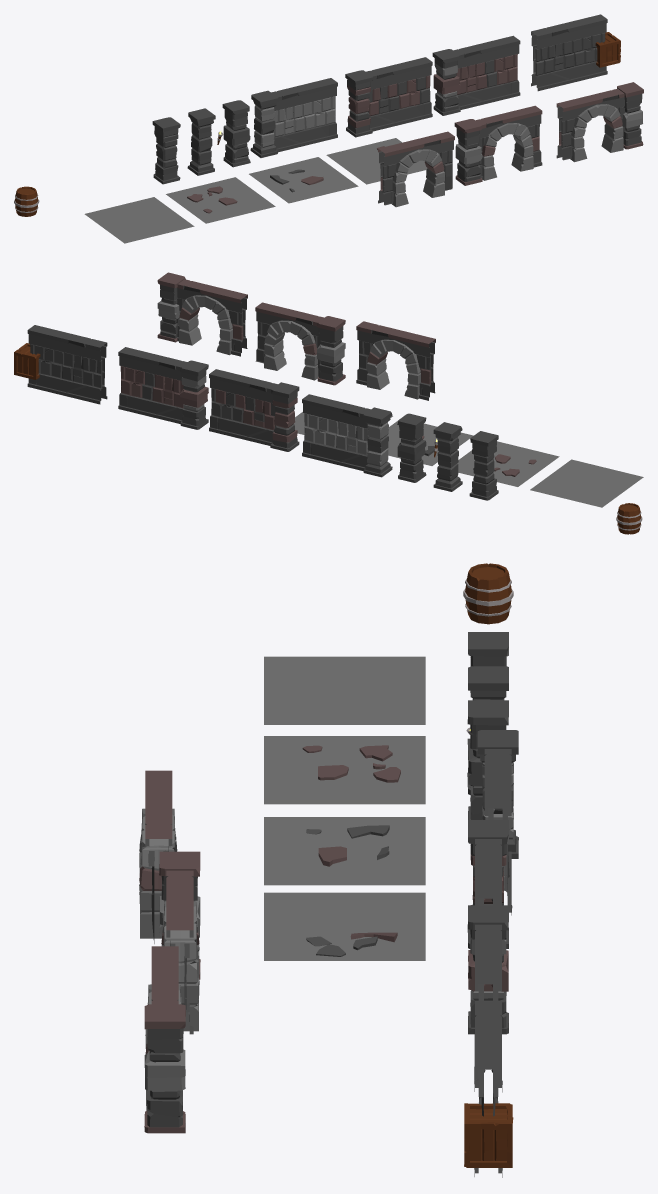
The model's file is Samples.fbx.
3 renders of one model, top to bottom at view 1: azimuth 30°, elevation 25°; view 2: azimuth 150°, elevation 25°; view 3: azimuth 270°, elevation 25°, orthographic. The views are drawn at different scales.
Parts seen in each view (by area): view 1: Wall03, Wall02, Wall01, Door.005, Door.006, Wall, Door.007, Plane.028, Plane.031, Plane.029, Plane.032, Pillar3 (+4 smaller); view 2: Wall03, Wall02, Wall01, Door.005, Door.006, Wall, Door.007, Plane.028, Plane.029, Pillar3, Pillar2, Pillar1 (+3 smaller); view 3: Plane.028, Plane.029, Plane.031, Plane.032, Door.006, Door.005, Door.007, Wall03, Wall01, Wall02, Crate.015, Barrel (+4 smaller).
Boxes of the visible parts, <box> form: Wall03: <box>432,35,520,115</box>; Wall02: <box>345,57,432,137</box>; Wall01: <box>250,78,337,157</box>; Door.005: <box>454,105,542,185</box>; Door.006: <box>556,82,643,162</box>; Wall: <box>531,14,607,91</box>; Door.007: <box>378,131,454,207</box>; Plane.028: <box>84,197,194,243</box>; Plane.031: <box>249,157,358,203</box>; Plane.029: <box>166,177,275,223</box>; Plane.032: <box>326,138,427,184</box>; Pillar3: <box>222,100,250,167</box>; Wall03: <box>118,347,208,429</box>; Wall02: <box>209,369,299,451</box>; Wall01: <box>302,394,392,477</box>; Door.005: <box>255,302,345,385</box>; Door.006: <box>157,272,247,356</box>; Wall: <box>27,325,107,404</box>; Door.007: <box>356,321,435,400</box>; Plane.028: <box>530,459,643,507</box>; Plane.029: <box>457,441,559,486</box>; Pillar3: <box>397,413,426,482</box>; Pillar2: <box>469,431,498,500</box>; Pillar1: <box>433,422,462,491</box>; Plane.028: <box>264,656,425,724</box>; Plane.029: <box>264,736,425,804</box>; Plane.031: <box>264,817,425,885</box>; Plane.032: <box>264,892,425,960</box>; Door.006: <box>144,946,185,1133</box>; Door.005: <box>159,851,200,1034</box>; Door.007: <box>139,770,177,943</box>; Wall03: <box>467,905,508,1092</box>; Wall01: <box>477,730,518,915</box>; Wall02: <box>467,820,508,948</box>; Crate.015: <box>464,1103,513,1167</box>; Barrel: <box>463,563,513,624</box>.
Bounding box in the file's own units: 3424 × 320 × 939.
